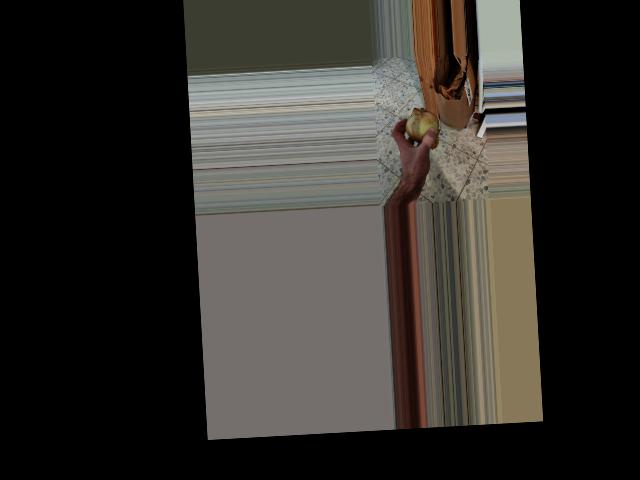onion: (401, 105, 442, 151)
